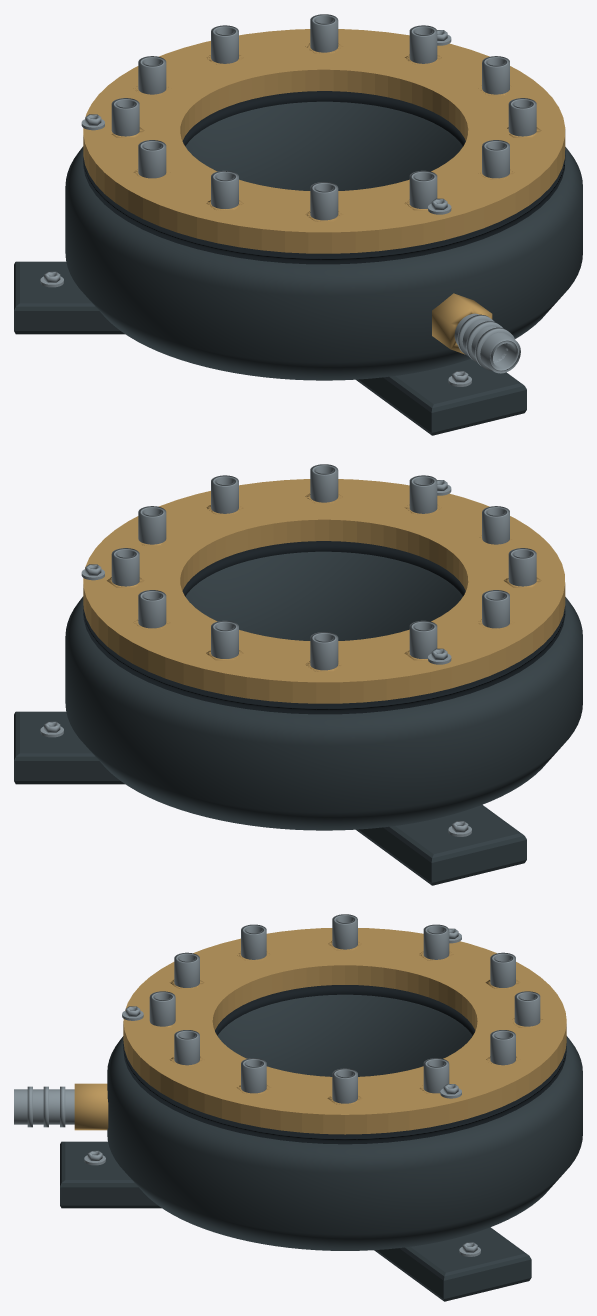
File: crown-ring.glb
3 views of the same model, one above another, from view 1: azimuth 30°, elevation 25°; view 2: azimuth 150°, elevation 25°; view 3: azimuth 270°, elevation 25° (orthographic). The views are drawn at different scales.
Parts seen in each view (by area): view 1: Annular cast plenum, Perforated bronze head, Radial mounting foot (×2), Recessed head seat, Hose socket, Hex union, Jet 3 open throat, Jet 5 open throat, Jet 9 open throat, Jet 6 open throat, Jet 10 open throat, Jet 8 open throat (+6 smaller); view 2: Annular cast plenum, Perforated bronze head, Radial mounting foot (×2), Recessed head seat, Jet 1 open throat, Jet 11 open throat, Jet 2 open throat, Jet 5 open throat, Jet 6 open throat, Jet 8 open throat, Jet 4 open throat, Jet 3 open throat (+4 smaller); view 3: Annular cast plenum, Perforated bronze head, Radial mounting foot (×2), Recessed head seat, Hose socket, Hex union, Jet 9 open throat, Jet 1 open throat, Jet 7 open throat, Jet 4 open throat, Jet 10 open throat, Jet 3 open throat (+6 smaller).
Boxes of the visible parts, bbox=[...] form: Annular cast plenum: bbox=[65, 101, 582, 380]; Perforated bronze head: bbox=[83, 29, 565, 253]; Radial mounting foot (×2): bbox=[14, 261, 526, 435]; Recessed head seat: bbox=[83, 91, 565, 264]; Hose socket: bbox=[454, 313, 520, 373]; Hex union: bbox=[432, 293, 492, 354]; Jet 3 open throat: bbox=[508, 98, 536, 136]; Jet 5 open throat: bbox=[409, 25, 437, 63]; Jet 9 open throat: bbox=[111, 98, 139, 136]; Jet 6 open throat: bbox=[310, 14, 338, 52]; Jet 10 open throat: bbox=[138, 140, 166, 178]; Jet 8 open throat: bbox=[138, 56, 166, 94]; Annular cast plenum: bbox=[65, 551, 582, 830]; Perforated bronze head: bbox=[83, 479, 565, 703]; Radial mounting foot (×2): bbox=[14, 711, 526, 885]; Recessed head seat: bbox=[83, 541, 565, 714]; Jet 1 open throat: bbox=[409, 475, 437, 513]; Jet 11 open throat: bbox=[508, 548, 536, 586]; Jet 2 open throat: bbox=[310, 464, 338, 502]; Jet 5 open throat: bbox=[111, 548, 139, 586]; Jet 6 open throat: bbox=[138, 590, 166, 628]; Jet 8 open throat: bbox=[310, 632, 338, 670]; Jet 4 open throat: bbox=[138, 506, 166, 544]; Jet 3 open throat: bbox=[211, 475, 238, 513]; Annular cast plenum: bbox=[107, 994, 582, 1250]; Perforated bronze head: bbox=[123, 928, 566, 1134]; Radial mounting foot (×2): bbox=[60, 1141, 531, 1301]; Recessed head seat: bbox=[123, 985, 566, 1144]; Hose socket: bbox=[14, 1089, 74, 1124]; Hex union: bbox=[74, 1083, 108, 1130]; Jet 9 open throat: bbox=[423, 924, 449, 959]; Jet 1 open throat: bbox=[149, 991, 175, 1026]; Jet 7 open throat: bbox=[514, 991, 540, 1026]; Jet 4 open throat: bbox=[332, 1068, 357, 1103]; Jet 10 open throat: bbox=[332, 914, 357, 949]; Jet 3 open throat: bbox=[241, 1058, 266, 1093].
Bounding box in the file's own units: 0.403 × 0.157 × 0.421.
